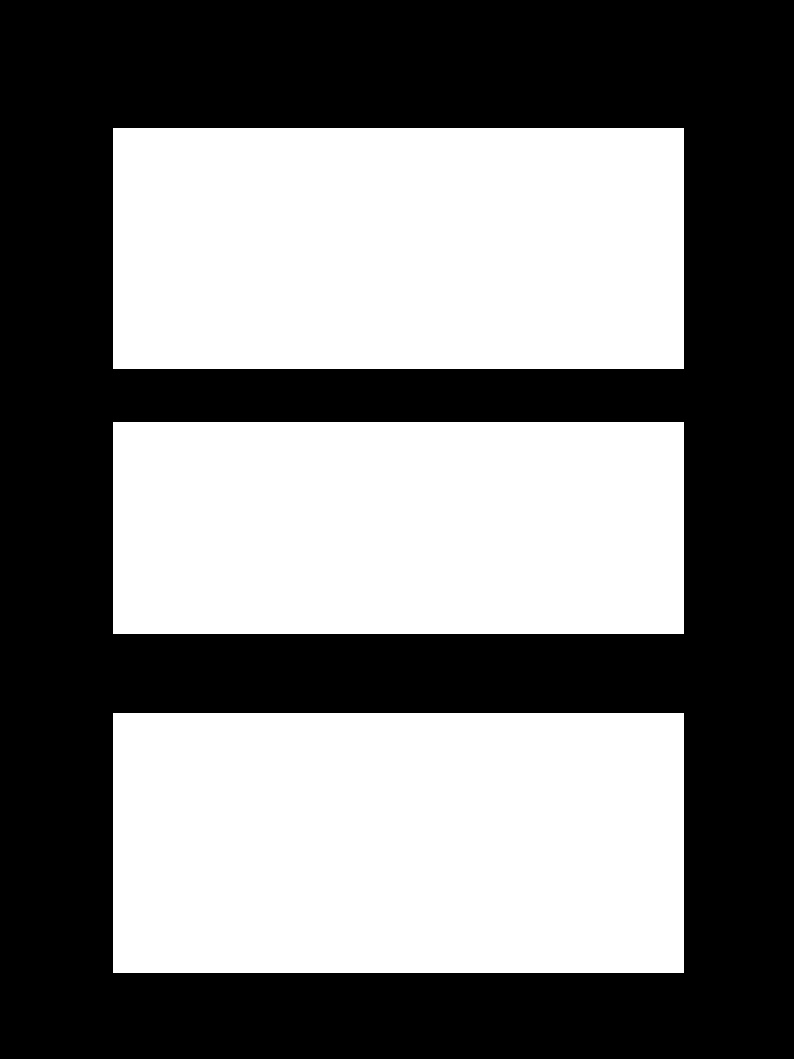table: (113, 713, 683, 972), (113, 128, 683, 368), (113, 422, 683, 633)
